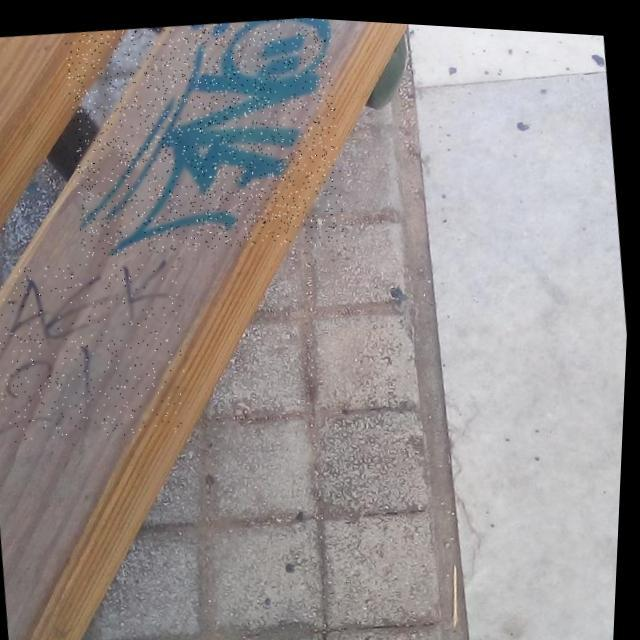-: (57, 4, 355, 268), (0, 245, 199, 452)
